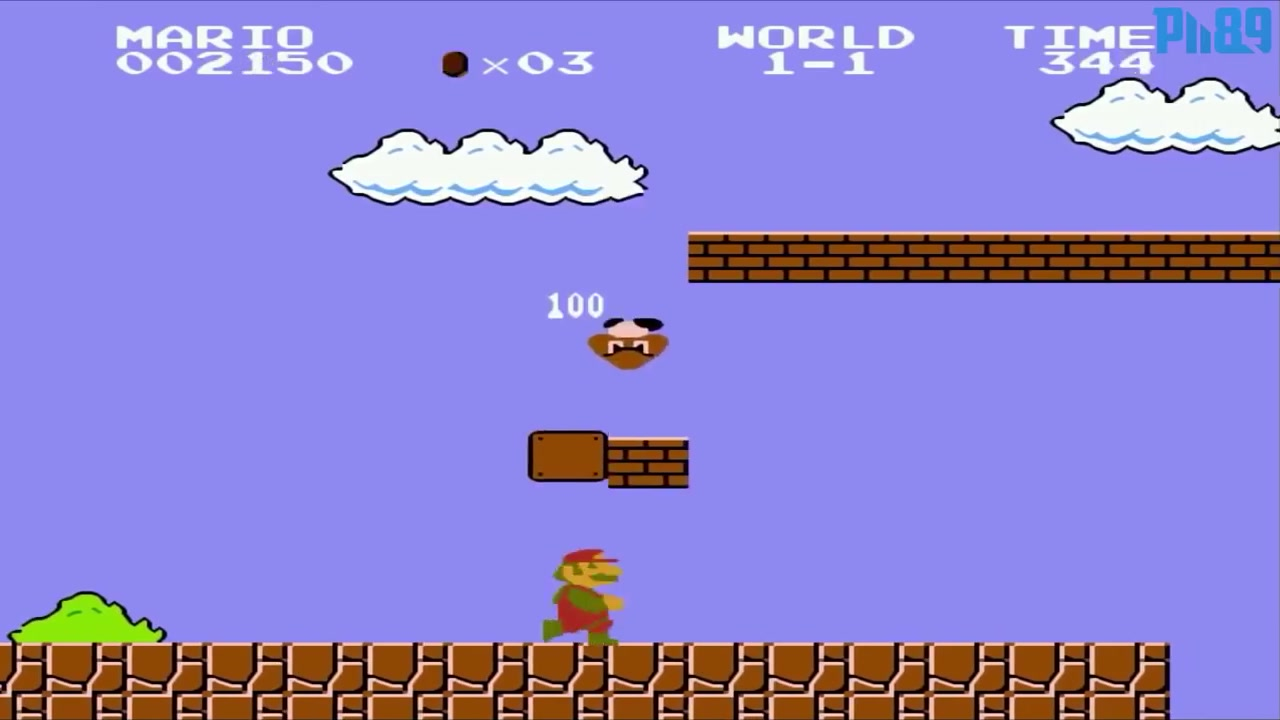mario: (536, 536, 633, 648)
